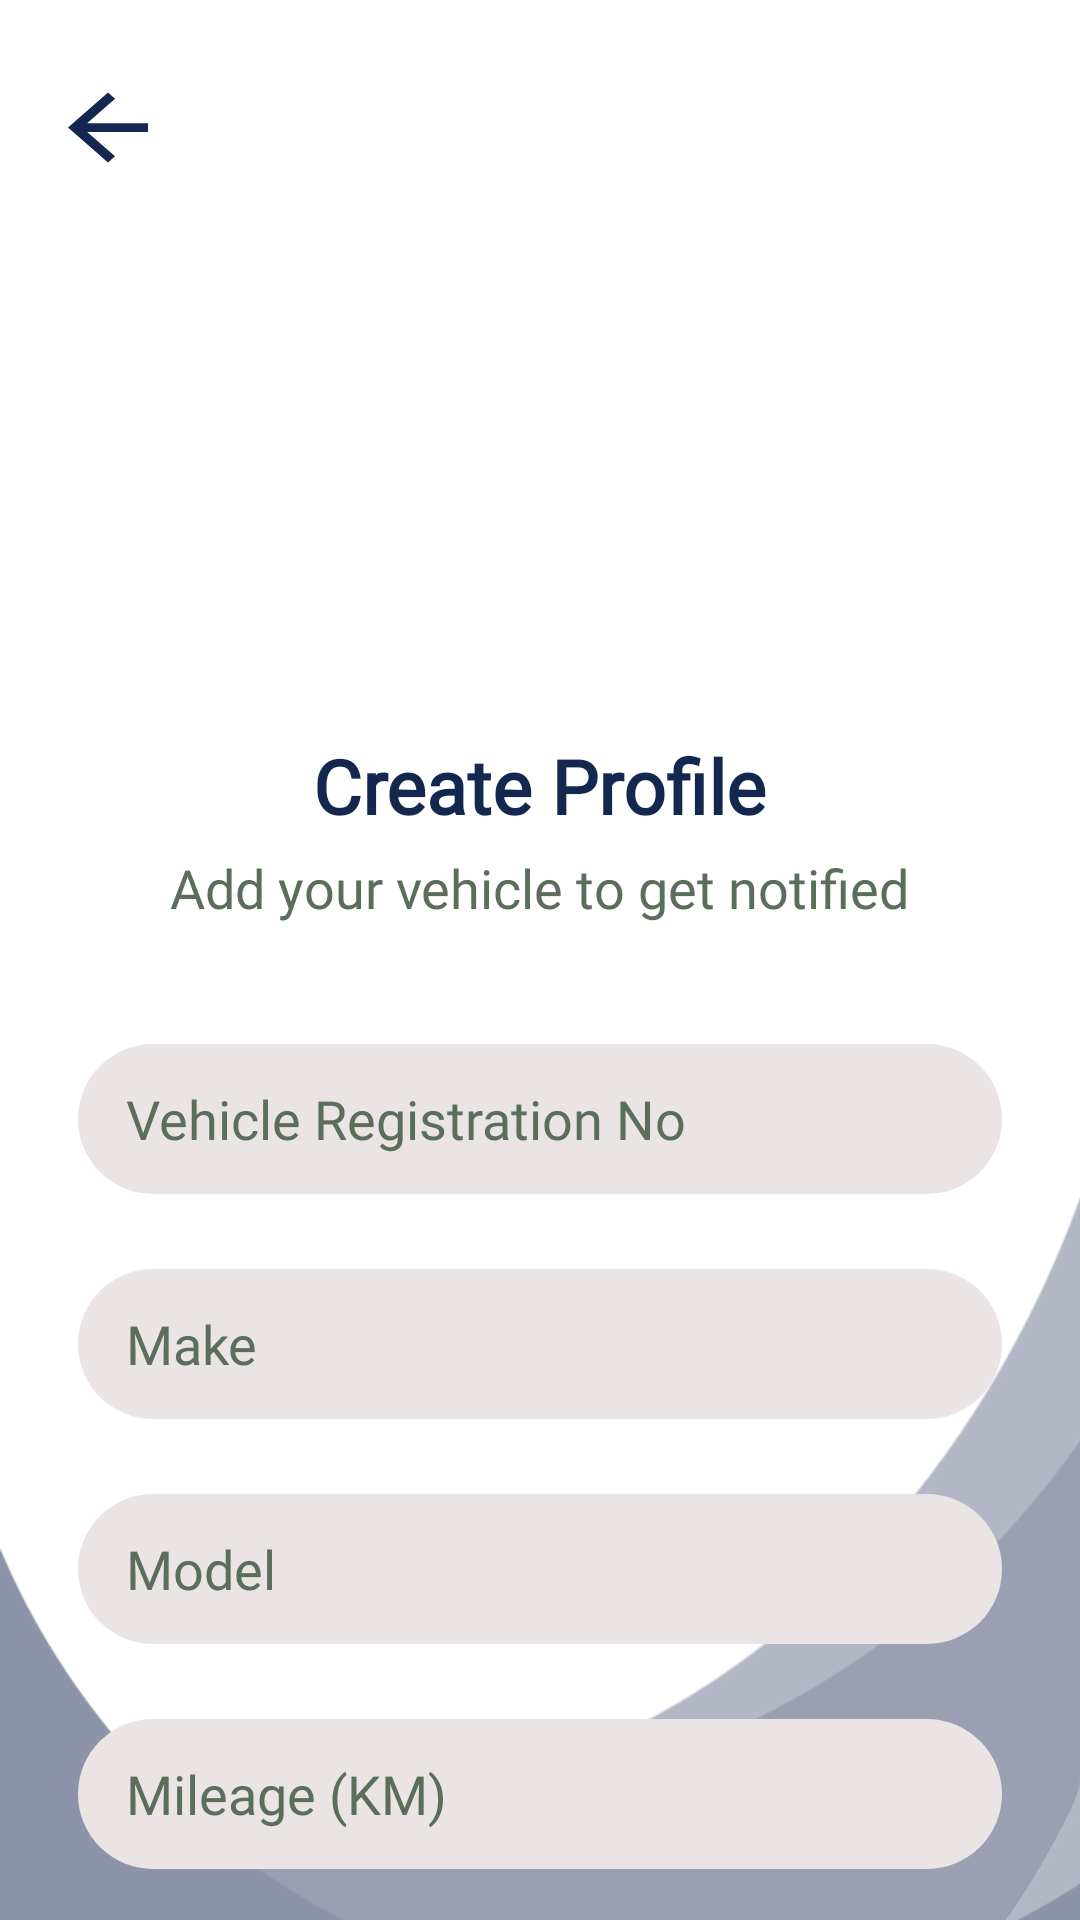

Screen size 1080px×1920px. Icon name, then its center in pixels as point (x, y):
arrow back: point (108, 127)
